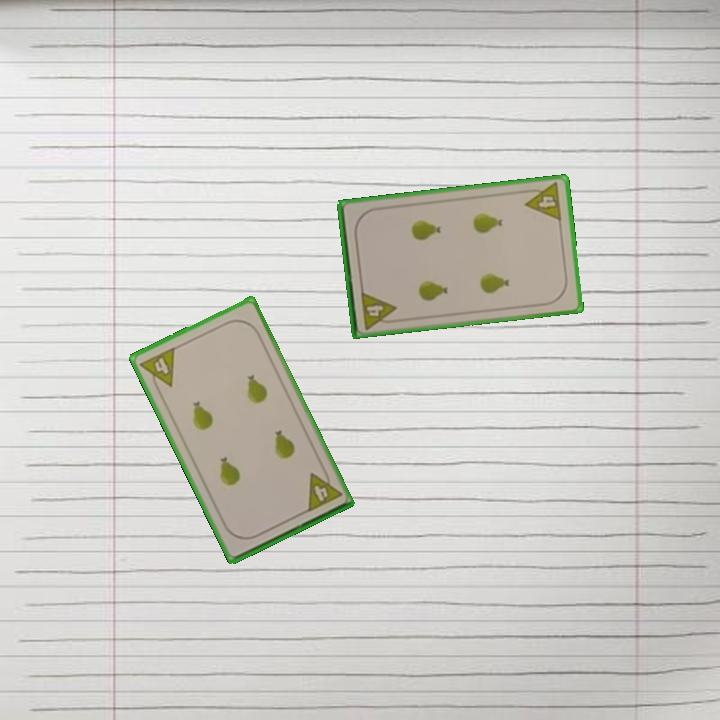4p: (136, 343, 178, 395), (303, 465, 345, 515), (521, 179, 564, 224), (357, 288, 400, 332)
